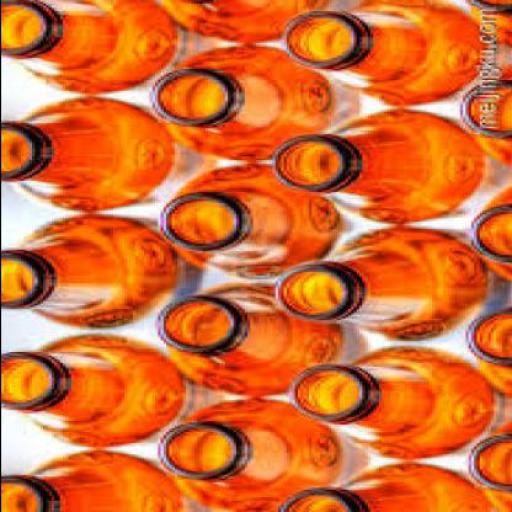glass: (266, 108, 481, 227), (271, 227, 487, 340), (286, 348, 494, 462), (278, 2, 486, 106), (148, 44, 330, 162), (1, 334, 180, 452), (154, 283, 338, 396), (157, 164, 333, 279), (156, 400, 336, 511), (1, 217, 174, 332), (1, 99, 169, 214), (0, 2, 170, 96), (1, 449, 180, 511), (274, 465, 488, 511), (143, 1, 325, 43), (453, 66, 509, 169), (462, 307, 509, 402), (467, 190, 509, 283), (465, 423, 509, 511), (462, 2, 509, 48)
